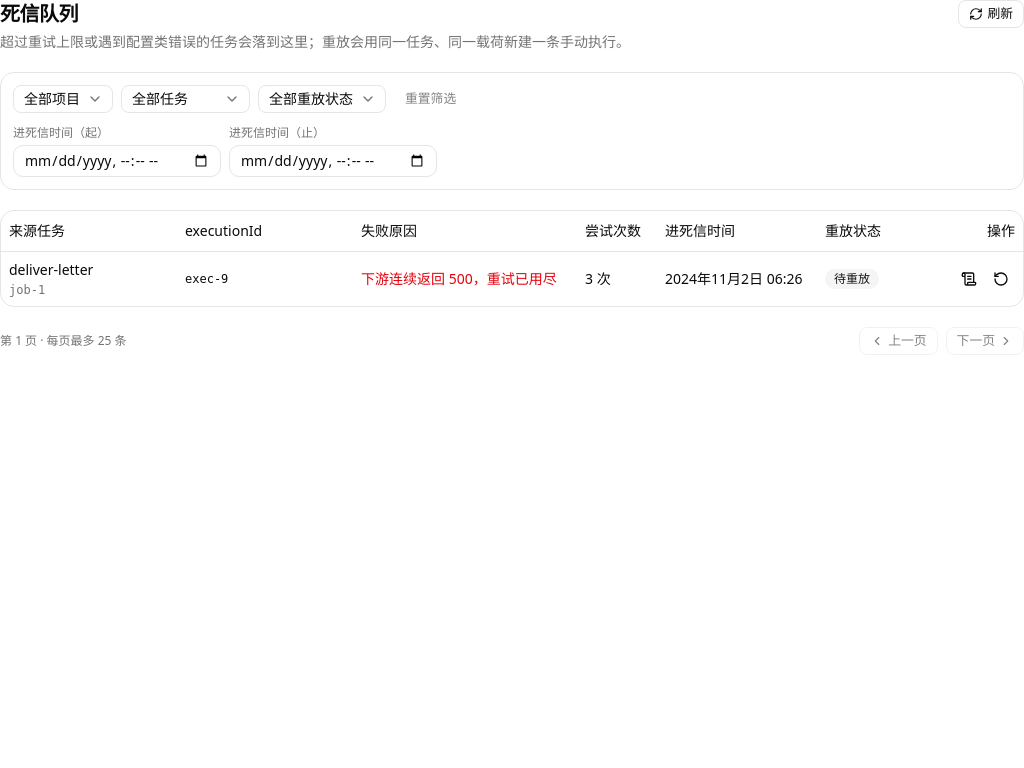
Scenario: 死信队列页 › 详情展示载荷与重放留痕
Expected: the table is shown, [1, 211, 1023, 306]
What coordinates should you click on to do the following:
click the button named "查看死信详情"
I would click on:
 (969, 278)
Its box is [955, 264, 983, 292].
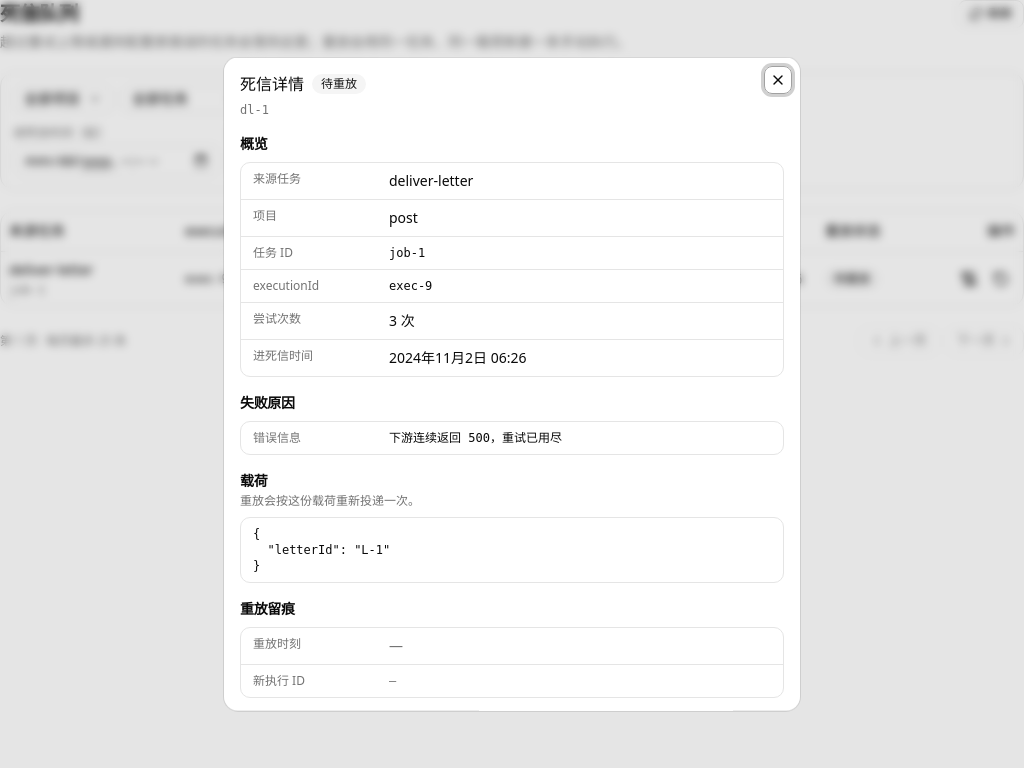
Now the text "exec-9" is shown, box [389, 279, 432, 293]
Now the text "{ \"letterId\": \"L-1\" }" is shown, box [253, 527, 390, 573]
Now the text "下游连续返回 500，重试已用尽" is shown, box [389, 431, 562, 445]
